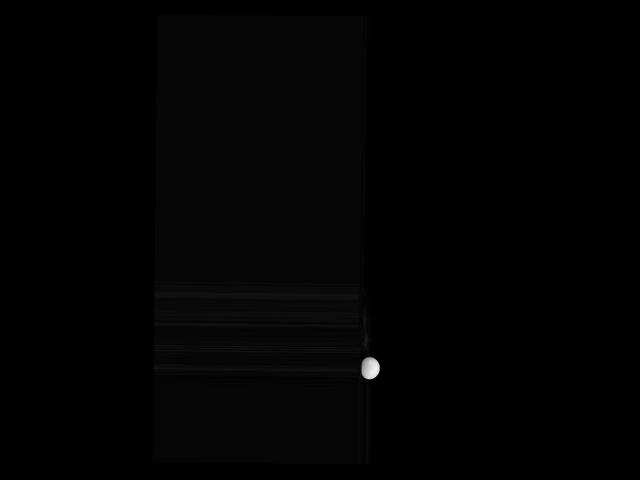egg: (361, 356, 379, 379)
